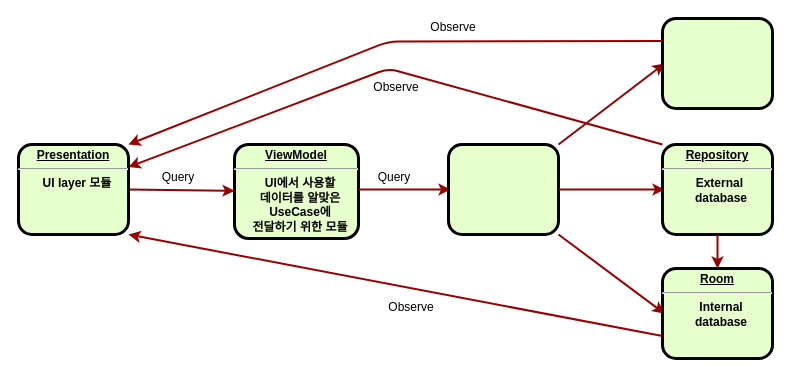
The diagram is 791 pixels wide and 377 high, and some of its shapes have lost their labels. The centre of each missing label's shape, as x and y in pixels:
Business Logic 데이터 연산 및 가공: the point at 717,63
UseCase 데이터 수집, 가공, 처리를 위한 모듈: the point at 503,189
